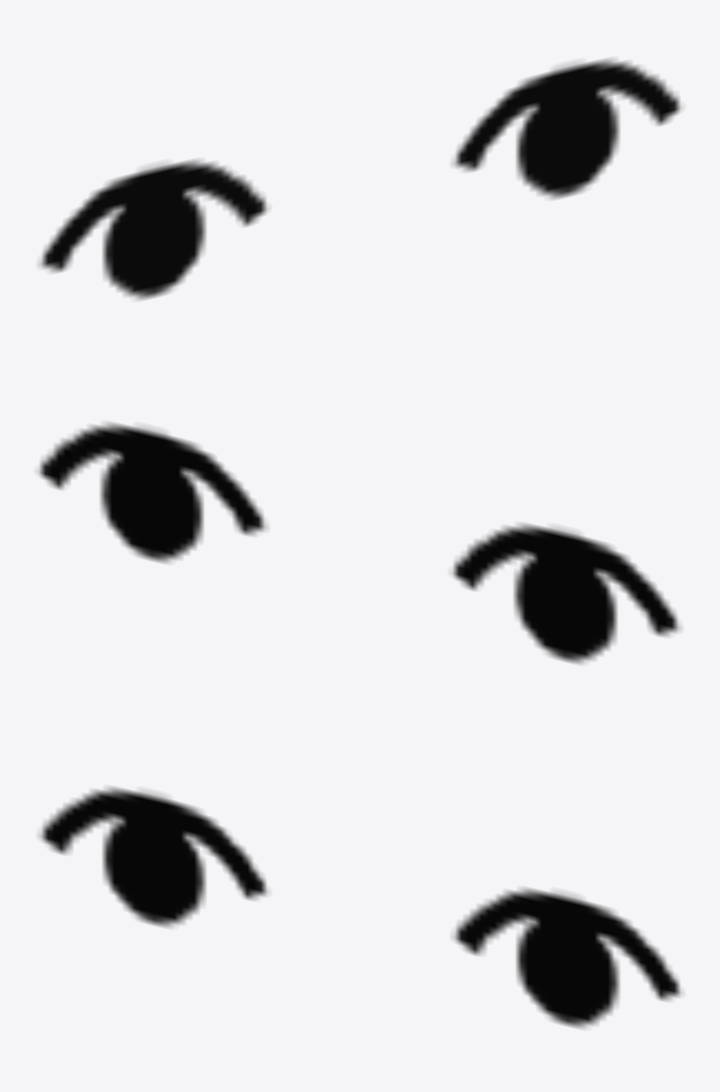
Rendered from occhi_normali.glb.
The picture shows the model from 3 angles, top to bottom: view 1: azimuth 30°, elevation 25°; view 2: azimuth 150°, elevation 25°; view 3: azimuth 330°, elevation 25°; orthographic projection.
Parts seen in each view (by area): view 1: mastro_occhi.001; view 2: mastro_occhi.001; view 3: mastro_occhi.001.
Boxes of the visible parts, x1,y1,x2,y2 form: mastro_occhi.001: [39, 59, 680, 299]; mastro_occhi.001: [39, 423, 680, 663]; mastro_occhi.001: [40, 787, 680, 1028].
Bounding box in the file's own units: 0.1329 × 0.0305 × 2.2e-08.
1 material, 1 textured.
